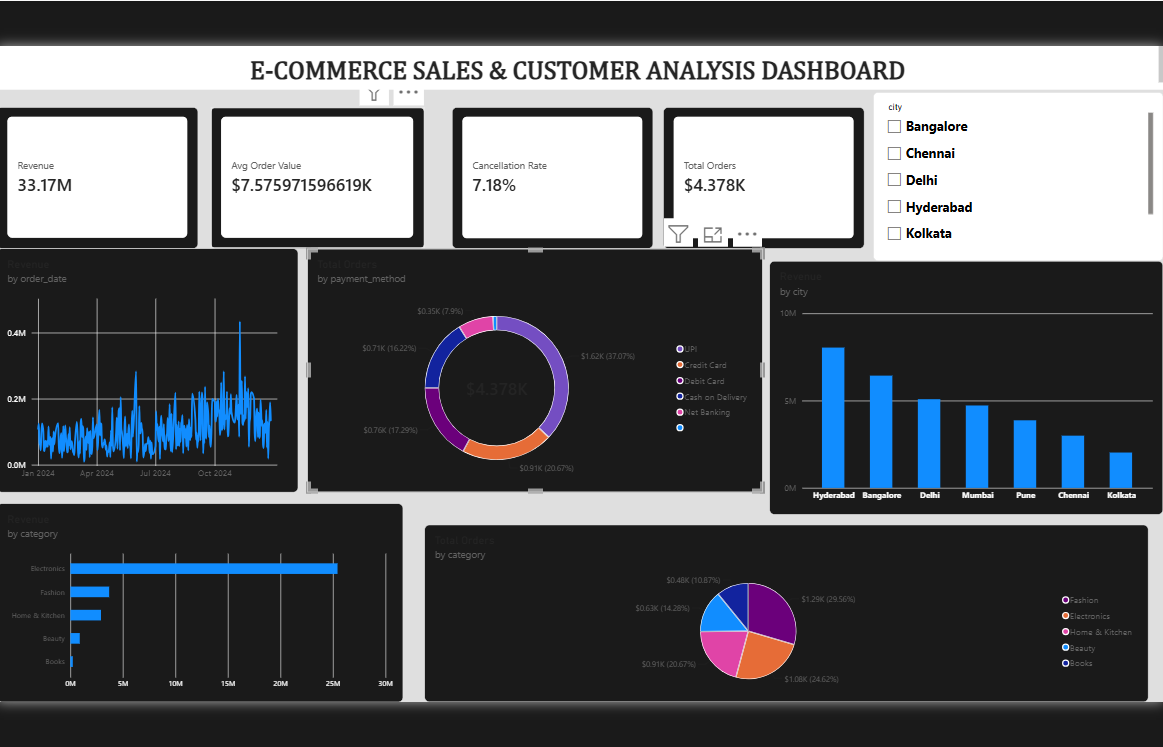

The page's visual inventory and layout, read from the dashboard file:
{"tool":"powerbi","page":{"name":"Page 1","canvas":[1920,1080],"ordinal":0},"visuals":[{"type":"cardVisual","fields":{"Data":["orders.Revenue"]},"box":[0,100.9,331.4,232.6],"z":0},{"type":"cardVisual","fields":{"Data":["orders.Total Orders"]},"box":[1097.1,100.9,331,233],"z":1},{"type":"cardVisual","fields":{"Data":["orders.Avg Order Value"]},"box":[352,100.9,352,232.6],"z":2},{"type":"cardVisual","fields":{"Data":["orders.Cancellation Rate"]},"box":[749.2,100.9,331,233],"z":3},{"type":"clusteredBarChart","fields":{"Category":["products.category"],"Y":["orders.Revenue"]},"box":[0,753.3,669,327.3],"z":5},{"type":"clusteredColumnChart","fields":{"Category":["customers.city"],"Y":["orders.Revenue"]},"box":[1272,354,648.4,417.8],"z":6},{"type":"donutChart","fields":{"Category":["orders.payment_method"],"Y":["orders.Total Orders"]},"box":[510.5,333.4,751.3,401.4],"z":7},{"type":"slicer","fields":{"Values":["customers.city"]},"box":[1442.9,76.2,477.5,277.9],"z":8},{"type":"lineChart","fields":{"Category":["orders.order_date"],"Y":["orders.Revenue"]},"box":[0,333.4,496.1,401.4],"z":9},{"type":"pieChart","fields":{"Category":["products.category"],"Y":["orders.Total Orders"]},"box":[703.9,788.3,1191.8,292.3],"z":10},{"type":"textbox","box":[0,0,1920.4,72],"z":11}]}

Visuals, with their boxes in screenshot pixels (x1, y1, x2, y2):
cardVisual - orders.Revenue: left=0, top=103, right=198, bottom=242
cardVisual - orders.Total Orders: left=655, top=103, right=853, bottom=242
cardVisual - orders.Avg Order Value: left=210, top=103, right=421, bottom=242
cardVisual - orders.Cancellation Rate: left=448, top=103, right=645, bottom=242
clusteredBarChart - products.category x orders.Revenue: left=0, top=492, right=400, bottom=688
clusteredColumnChart - customers.city x orders.Revenue: left=760, top=254, right=1147, bottom=503
donutChart - orders.payment_method x orders.Total Orders: left=305, top=242, right=754, bottom=481
slicer - customers.city: left=862, top=88, right=1147, bottom=254
lineChart - orders.order_date x orders.Revenue: left=0, top=242, right=296, bottom=481
pieChart - products.category x orders.Total Orders: left=420, top=513, right=1132, bottom=688
textbox: left=0, top=42, right=1147, bottom=85
